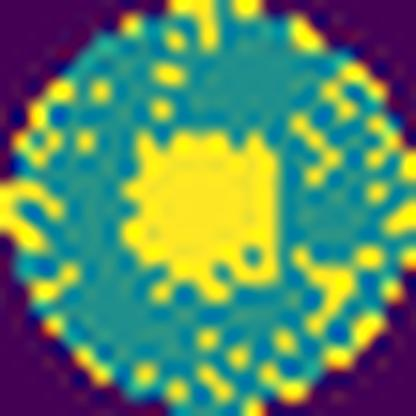Center: (117, 126, 284, 311)
